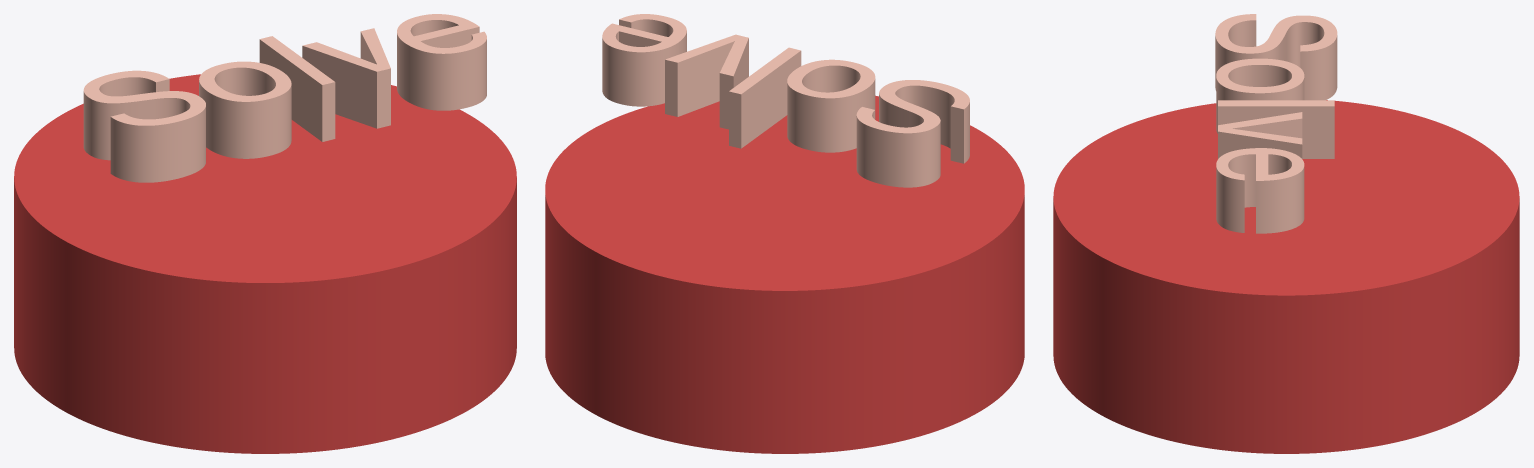
File: solveButton.fbx
The picture shows the model from 3 angles, left to right: view 1: azimuth 30°, elevation 25°; view 2: azimuth 150°, elevation 25°; view 3: azimuth 270°, elevation 25°; orthographic projection. The views are drawn at different scales.
Parts seen in each view (by area): view 1: オブジェクト_6, オブジェクト_1, オブジェクト_2, オブジェクト_5, オブジェクト_4, オブジェクト_3; view 2: オブジェクト_6, オブジェクト_1, オブジェクト_2, オブジェクト_5, オブジェクト_4, オブジェクト_3; view 3: オブジェクト_6, オブジェクト_5, オブジェクト_1, オブジェクト_2, オブジェクト_3, オブジェクト_4.
Part boxes in pixels (<box>): オブジェクト_6: <box>14,74,516,453</box>; オブジェクト_1: <box>83,70,205,182</box>; オブジェクト_2: <box>199,61,291,158</box>; オブジェクト_5: <box>397,14,486,110</box>; オブジェクト_4: <box>302,28,390,128</box>; オブジェクト_3: <box>259,36,335,141</box>; オブジェクト_6: <box>545,95,1024,453</box>; オブジェクト_1: <box>856,80,969,187</box>; オブジェクト_2: <box>787,59,875,152</box>; オブジェクト_5: <box>602,14,686,106</box>; オブジェクト_4: <box>665,34,748,129</box>; オブジェクト_3: <box>729,47,801,148</box>; オブジェクト_6: <box>1053,100,1519,453</box>; オブジェクト_5: <box>1216,148,1304,233</box>; オブジェクト_1: <box>1215,14,1337,100</box>; オブジェクト_2: <box>1216,58,1304,133</box>; オブジェクト_3: <box>1218,100,1334,158</box>; オブジェクト_4: <box>1218,112,1302,158</box>.
Size of the model in its own units: 4000 by 4000 by 2500.
